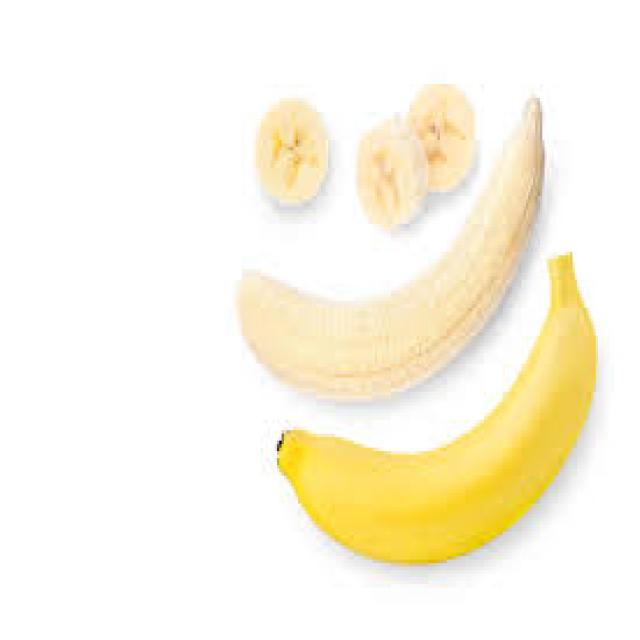banana: (274, 248, 596, 563), (235, 91, 545, 399)
